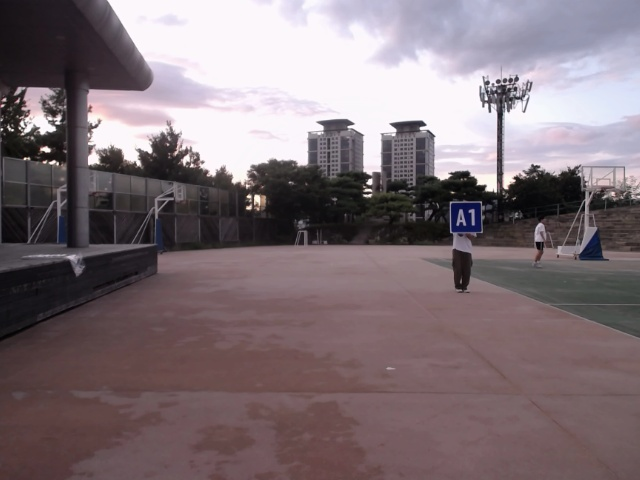delivery_a1: (450, 201, 483, 233)
